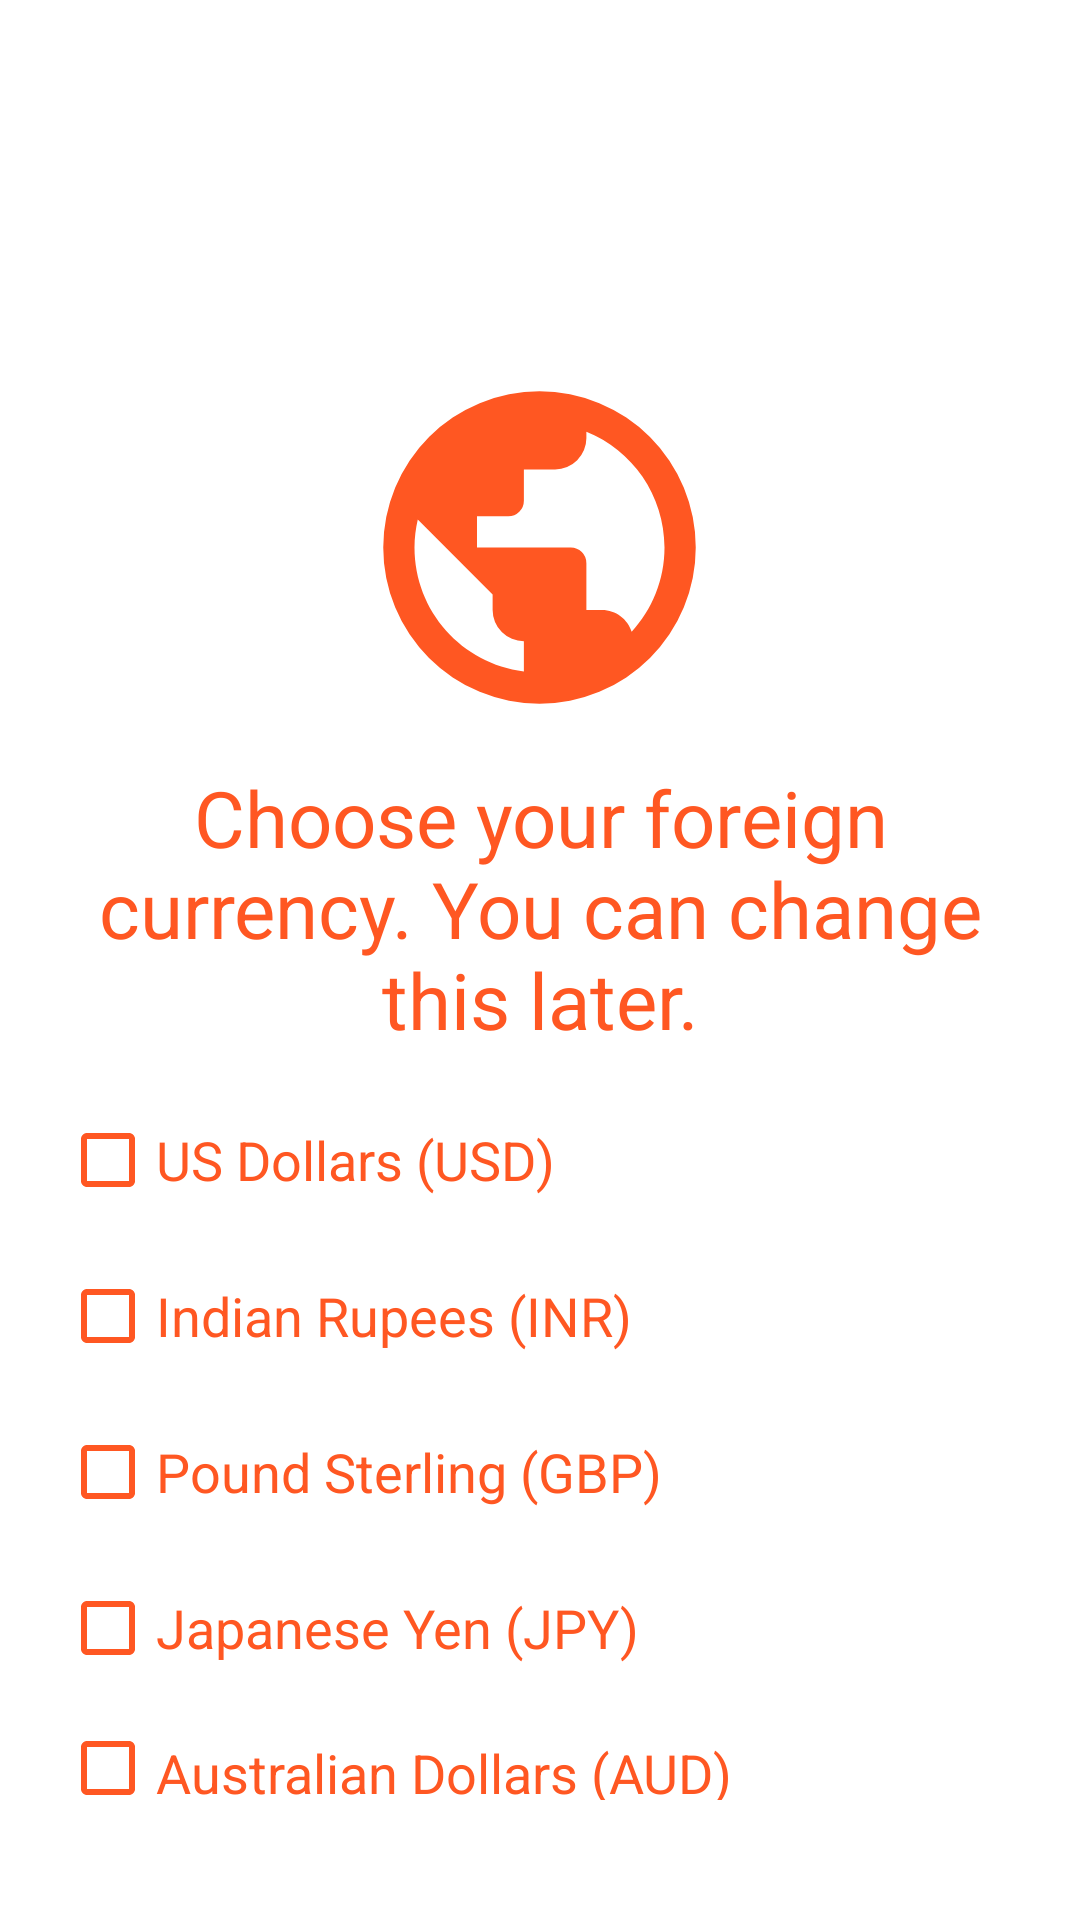

Icon bounding boxes for this 1080*1920 phone screenshot, format box=[x1, y1, x2, y2]:
earth: box=[383, 391, 696, 704]
